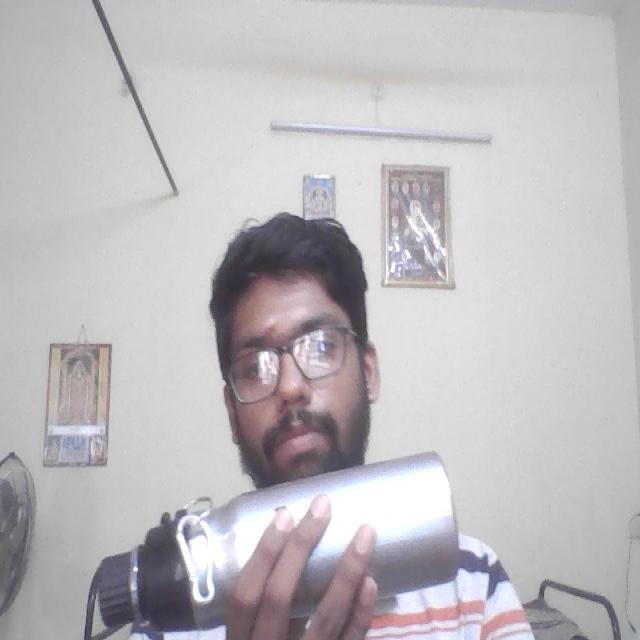Drinking: (90, 449, 473, 634)
